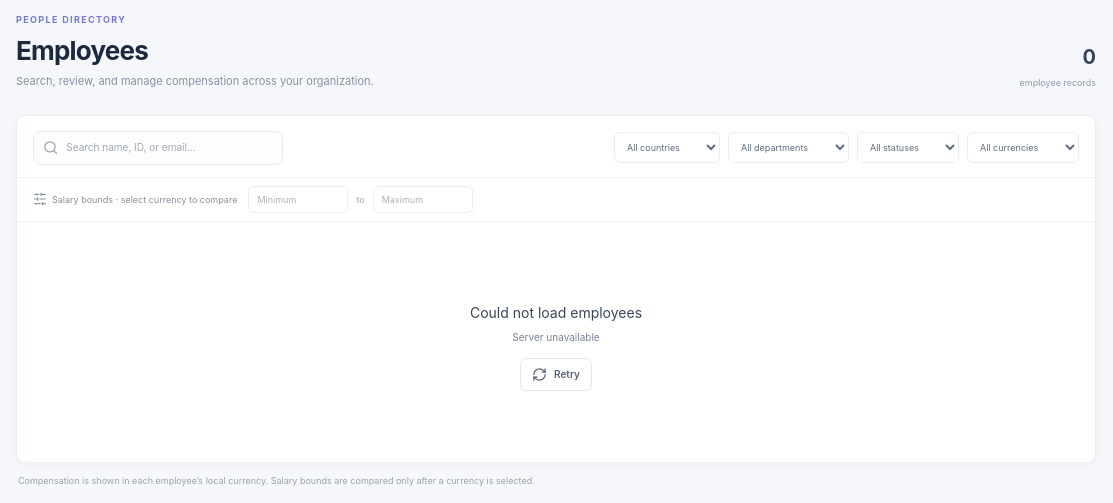
Test: employee directory › shows API errors and supports retry
Expected: the text "Server unavailable" is shown, [512,329,600,345]
Click the button "Retry" at (556, 374), box [520,358,592,391]
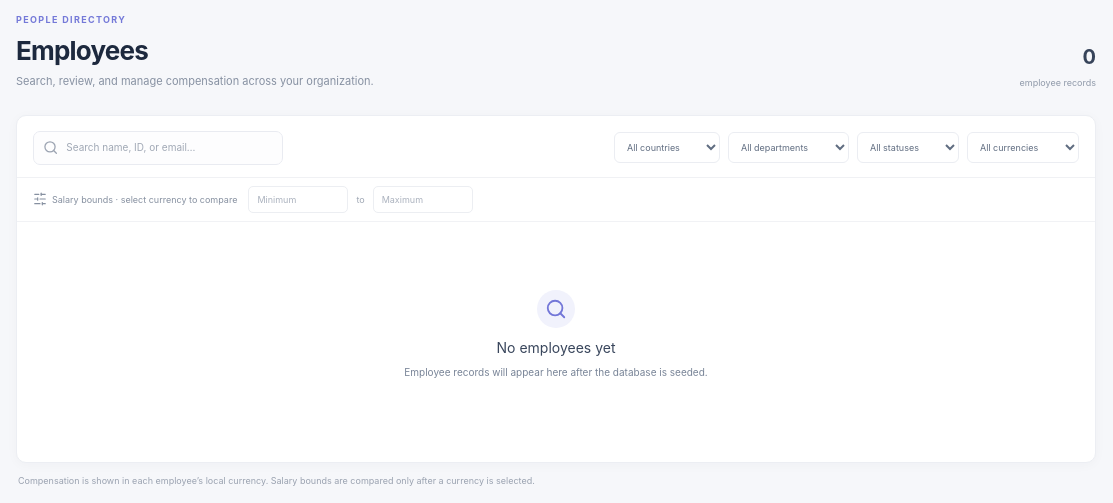
Result: the heading "No employees yet" is shown at [496,337,616,358]
